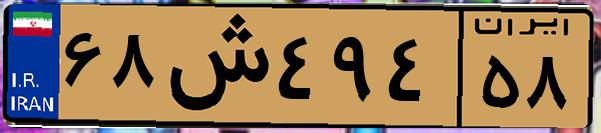4: (270, 28, 330, 110), (385, 28, 445, 110)
5: (475, 38, 525, 113)
6: (57, 26, 110, 100)
8: (525, 38, 570, 115), (110, 28, 158, 98)
9: (330, 28, 385, 110)
ش: (158, 12, 270, 120)
